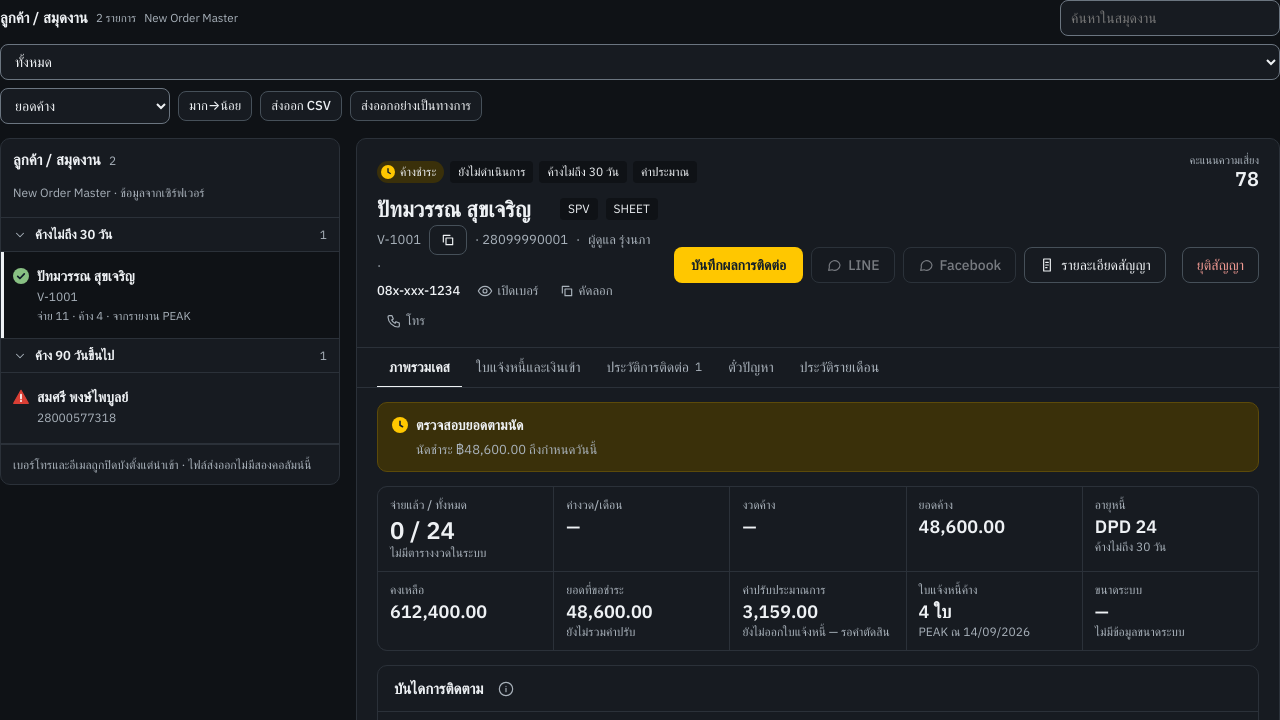
Scenario: Book › runs the governed export only with a stated reason
This screenshot has width=1280, height=720.
Later steps or results of the test are not shown.
Check: the text "ค้างไม่ถึง 30 วัน" below "New Order Master · ข้อมูลจากเซิร์ฟเวอร์" is shown, box [35,226,112,242]
Step 1. Click the button "ส่งออกอย่างเป็นทางการ" → (416, 106), box [350,91,482,121]
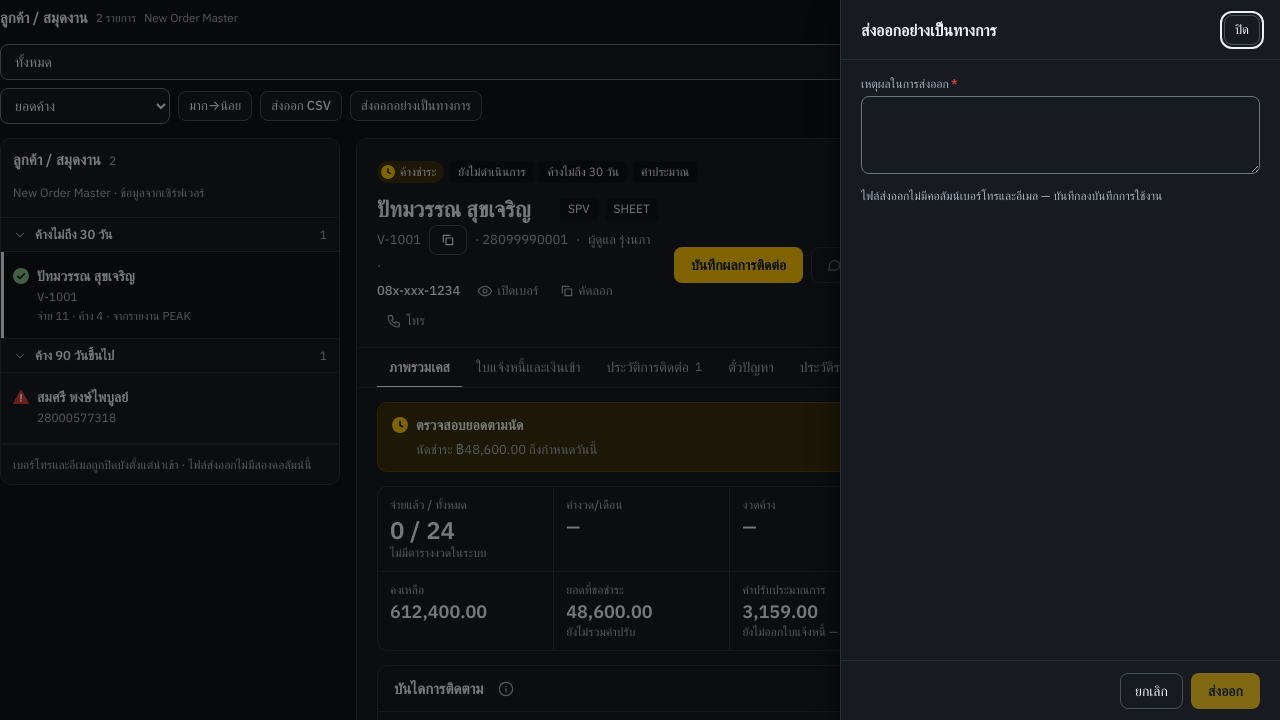
Check: the button "ส่งออก" is disabled, box [1191,672,1260,708]
Step 2. Type "ตรวจยอดกับ AR" into the text box → (1060, 135), box [861,96,1260,174]
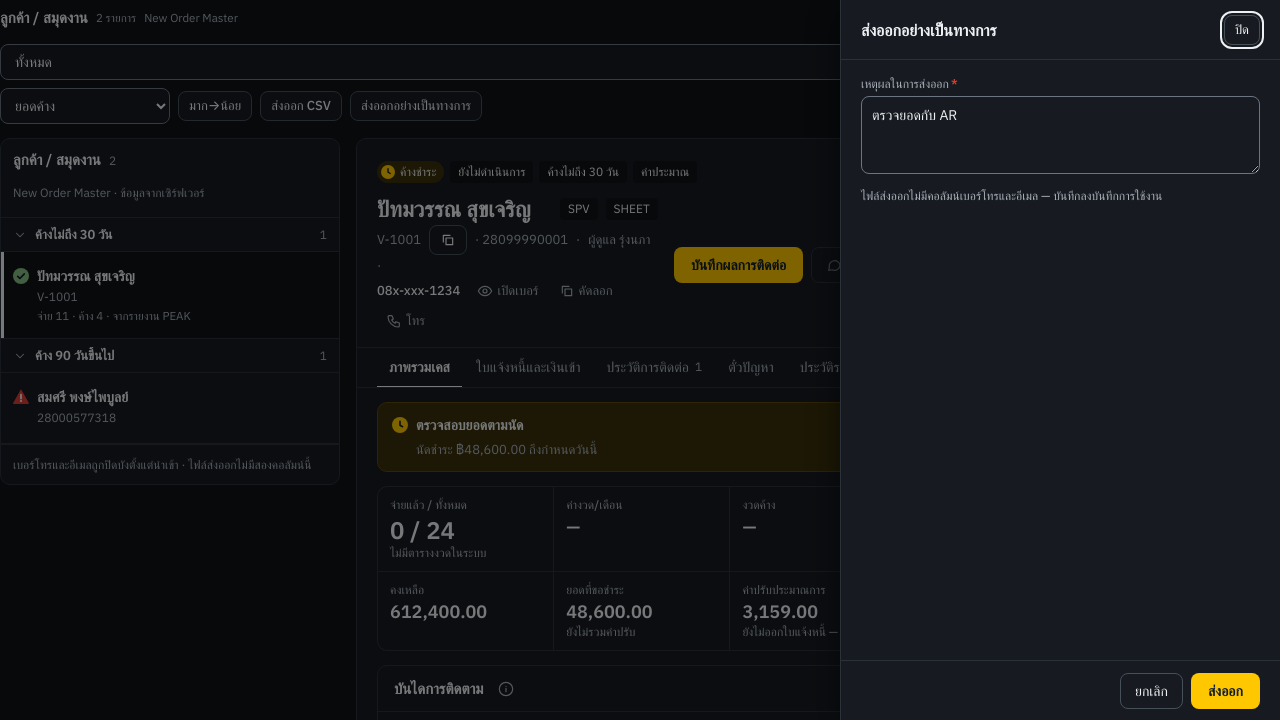
Check: the button "ส่งออก" is enabled, box [1191,672,1260,708]
